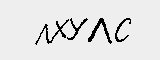Л: (86, 16, 111, 44), (32, 20, 49, 46)
С: (114, 14, 133, 44)
У: (66, 11, 87, 41)
Х: (50, 15, 69, 43)
